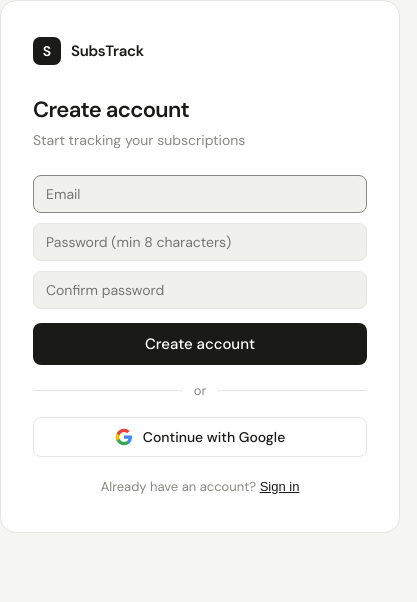
Test: Register › shows error for password shorter than 8 characters
The image size is (417, 602).
In the field with placeholder "Email": (200, 194) [33, 175, 367, 213], type "a@b.com"
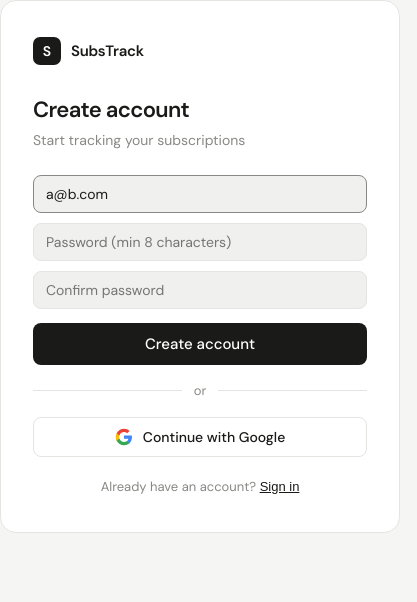
In the password field with placeholder "Password (min 8 characters)": (200, 242) [33, 223, 367, 261], type "short"
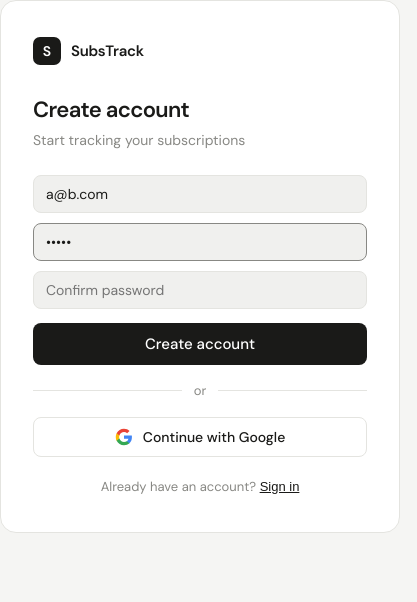
In the password field with placeholder "Confirm password": (200, 290) [33, 271, 367, 309], type "short"
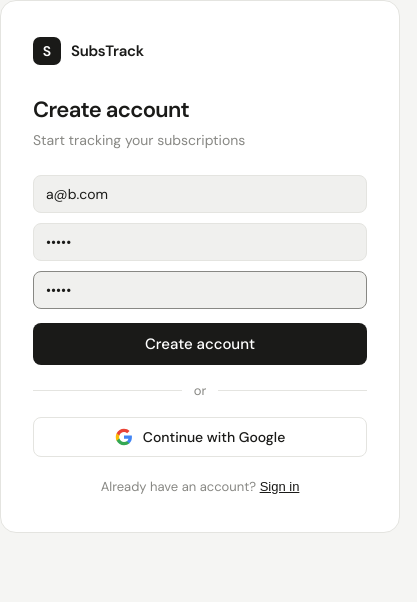
Click the button "Create account": (200, 344) [33, 323, 367, 365]
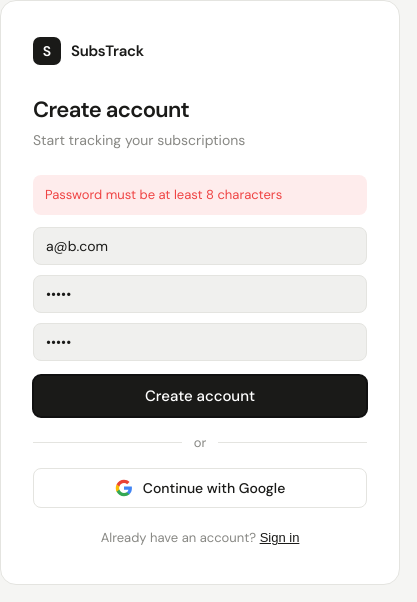
Check: the text "Password must be at least 8 characters" is shown, box [33, 175, 367, 214]
